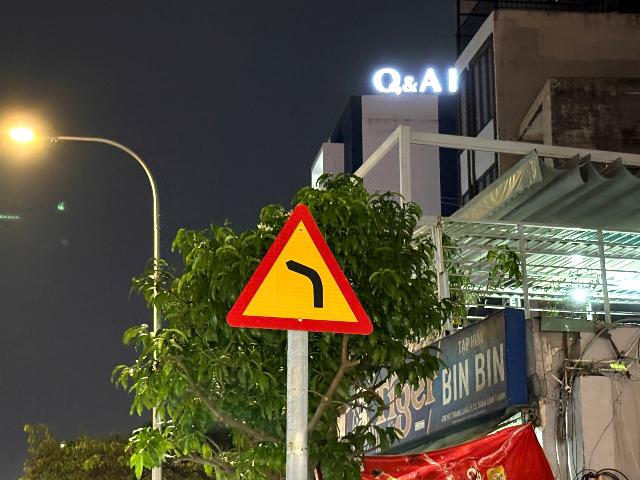cho-ngoat-nguy-hiem-ben-trai: (226, 203, 373, 336)
